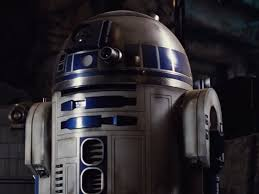r2d2: (24, 10, 224, 193)
